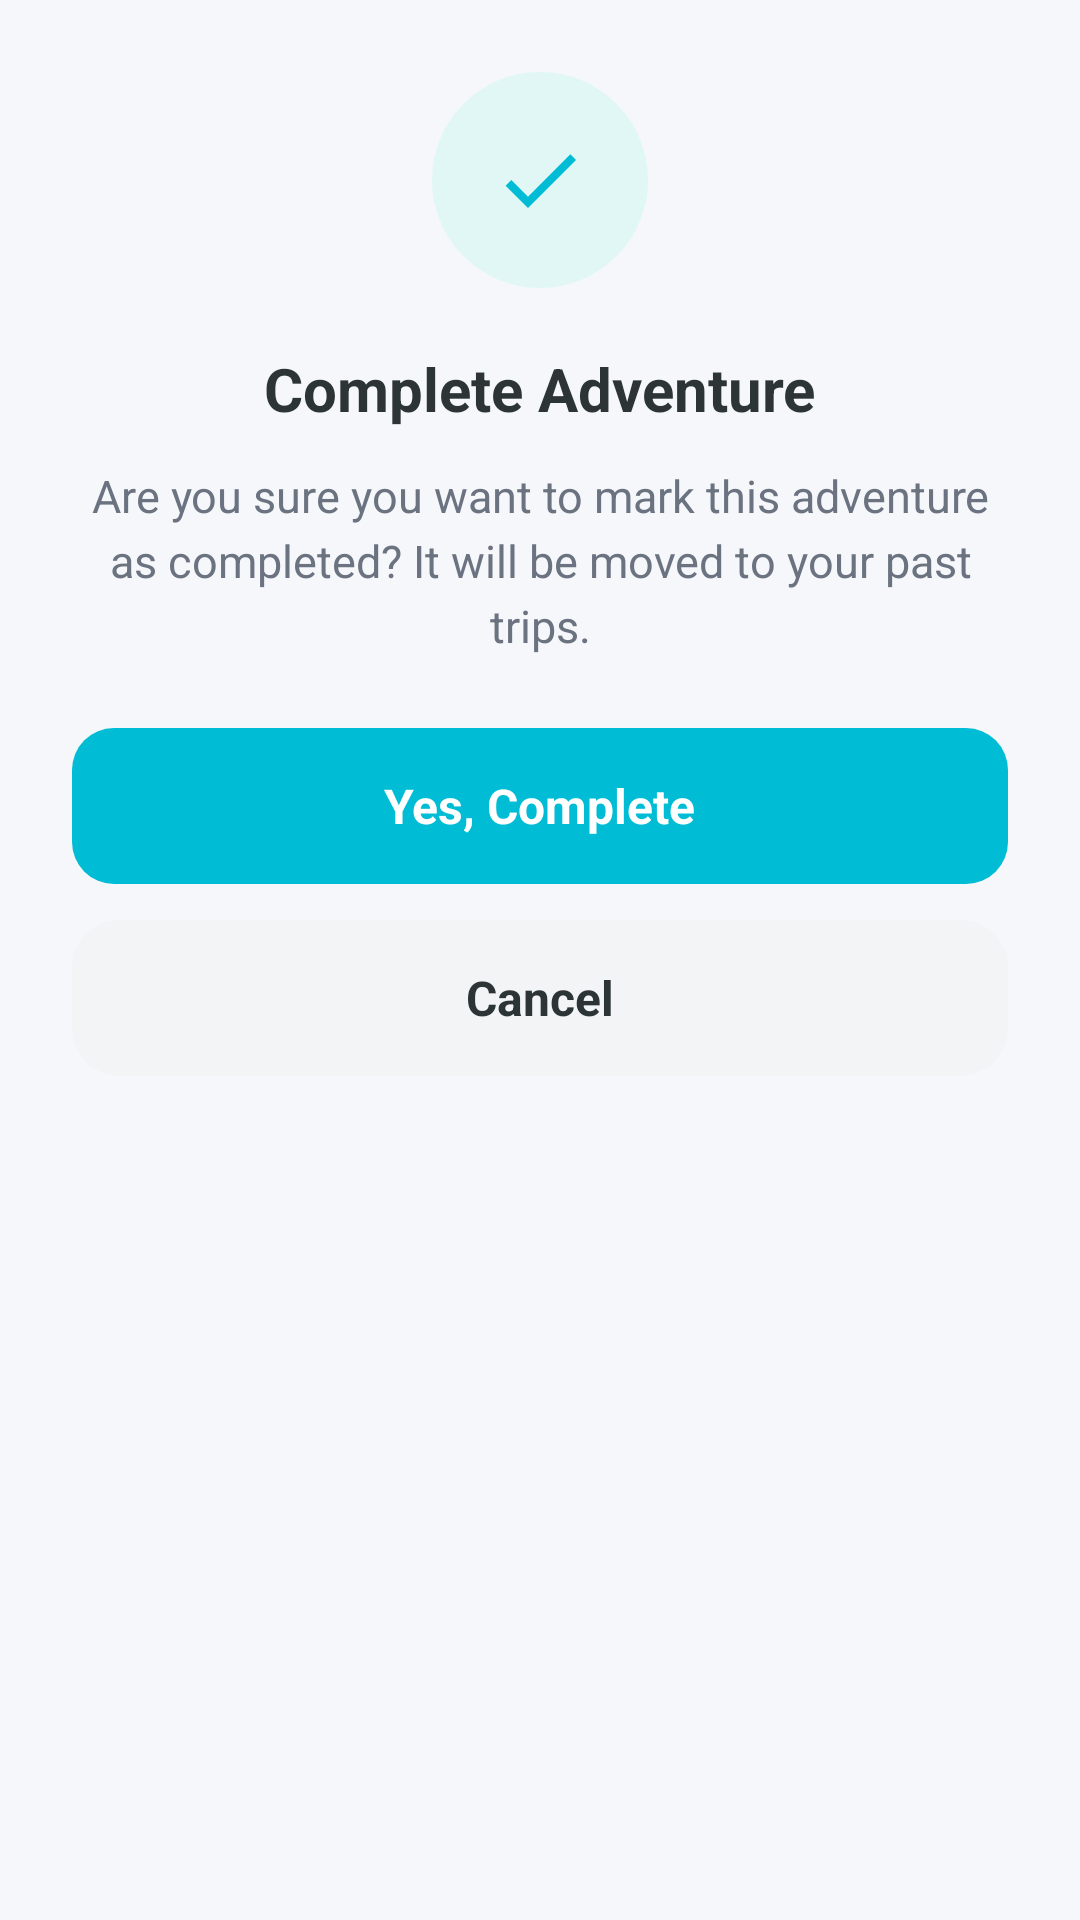

Point at icon controls on the screen. Image size 1080 x 1920, points as point (x, y).
check: point (540, 181)
